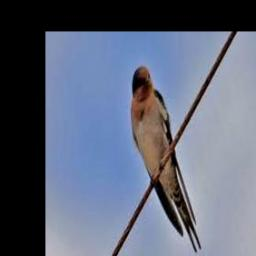Swallow: (130, 66, 201, 252)
